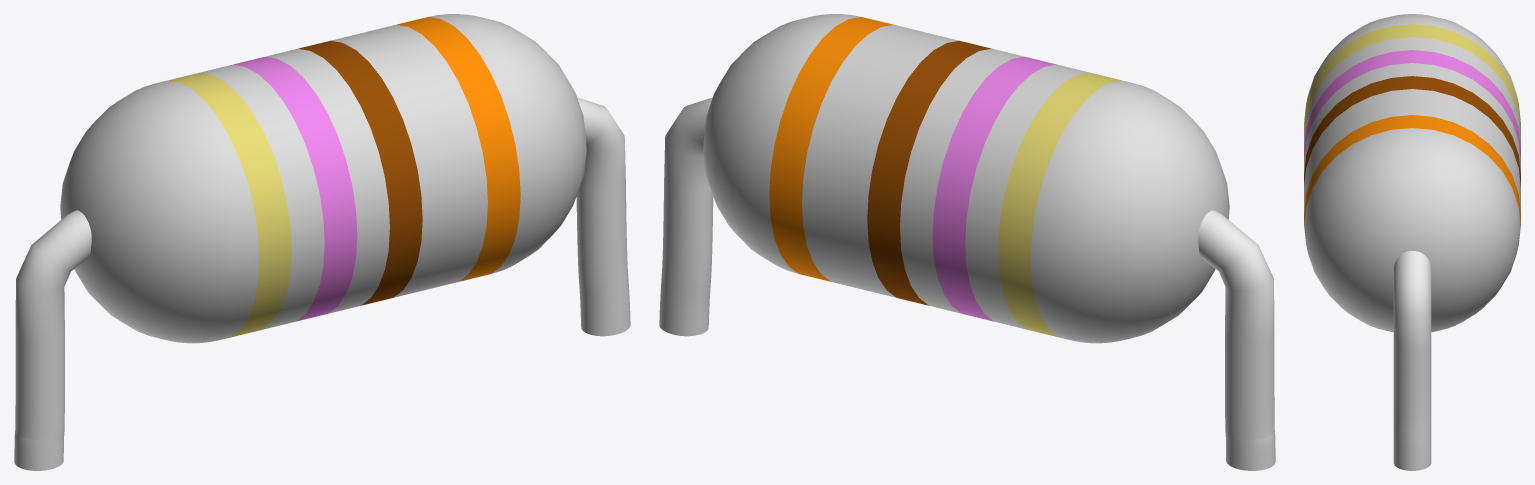
3 views of the same model, side by side, from view 1: azimuth 30°, elevation 25°; view 2: azimuth 150°, elevation 25°; view 3: azimuth 270°, elevation 25° (orthographic). The views are drawn at different scales.
Visible parts, largest first — view 1: Sphere.002, BezierCurve.002; view 2: Sphere.002, BezierCurve.002; view 3: Sphere.002, BezierCurve.002.
Part boxes in pixels (<box>): Sphere.002: <box>60,14,586,343</box>; BezierCurve.002: <box>14,97,630,470</box>; Sphere.002: <box>703,14,1229,343</box>; BezierCurve.002: <box>659,97,1275,470</box>; Sphere.002: <box>1304,14,1520,332</box>; BezierCurve.002: <box>1393,251,1431,470</box>.
Bounding box in the file's own units: 530 × 280 × 200.
